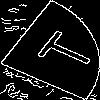T: (25, 25, 100, 75)
